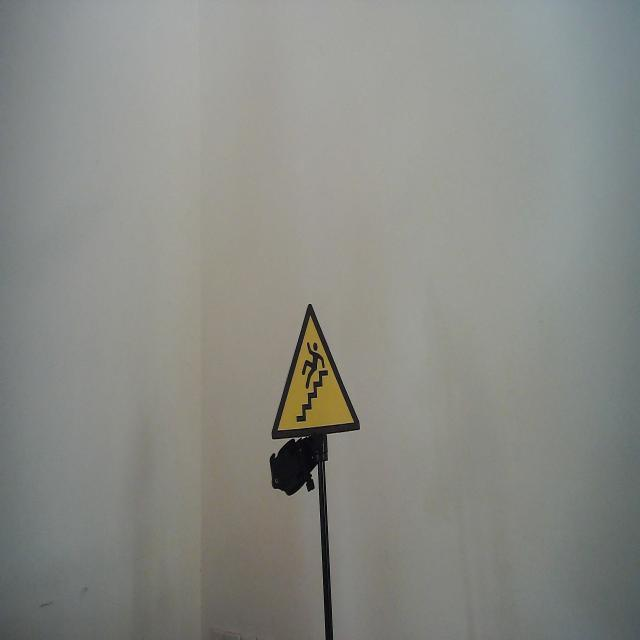stairs: (270, 300, 361, 442)
